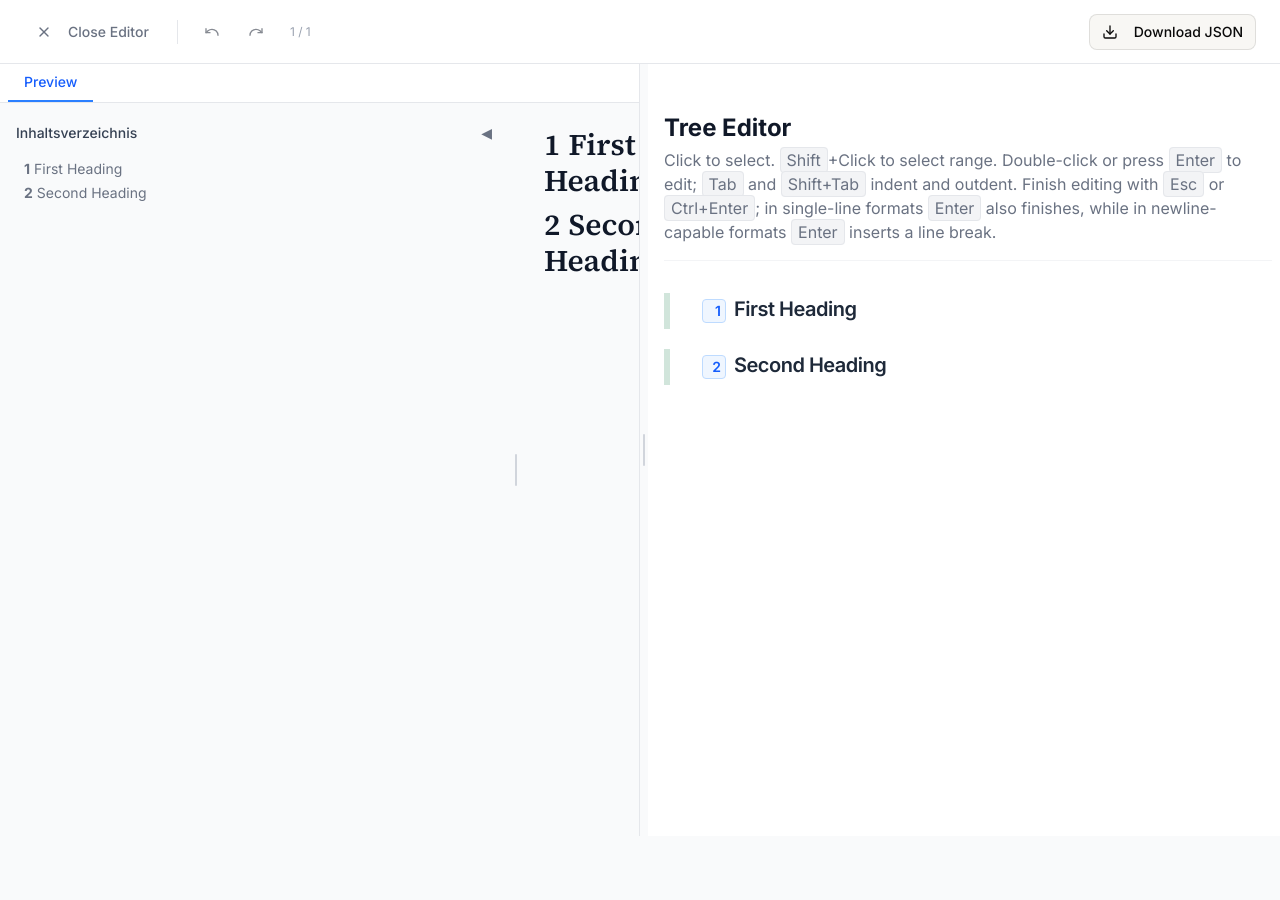
Test: FloatingToolbar tooltips › toolbar buttons show keyboard shortcuts in tooltips
Click the first heading node to select it
Click the heading "First Heading": [795, 309] box [734,297,856,321]
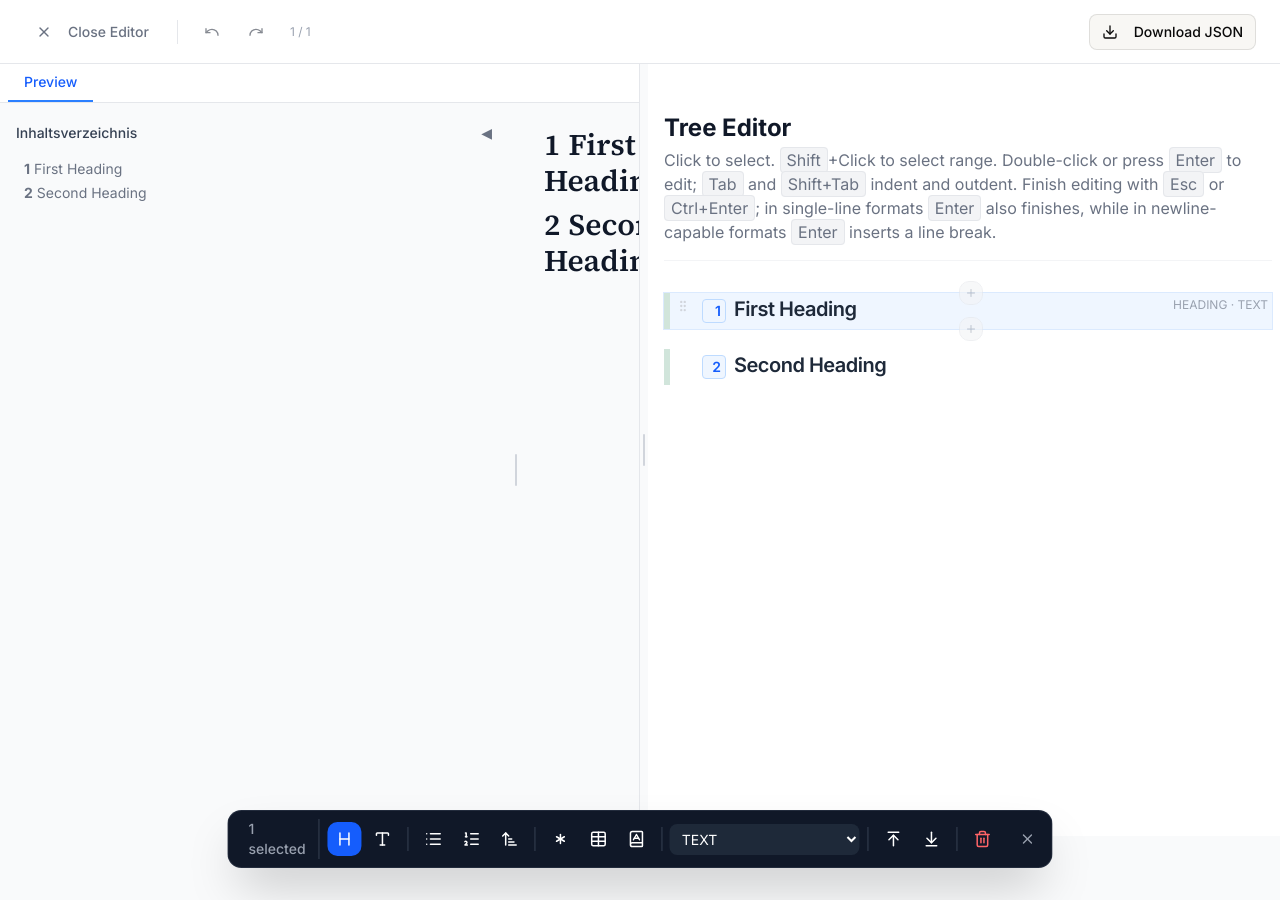
Expected: the button titled "Heading (H)" is shown, [327,822,361,856]
Expected: the button titled "Content (C)" is shown, [365,822,399,856]
Expected: the button titled "Bullet List (U)" is shown, [416,822,450,856]
